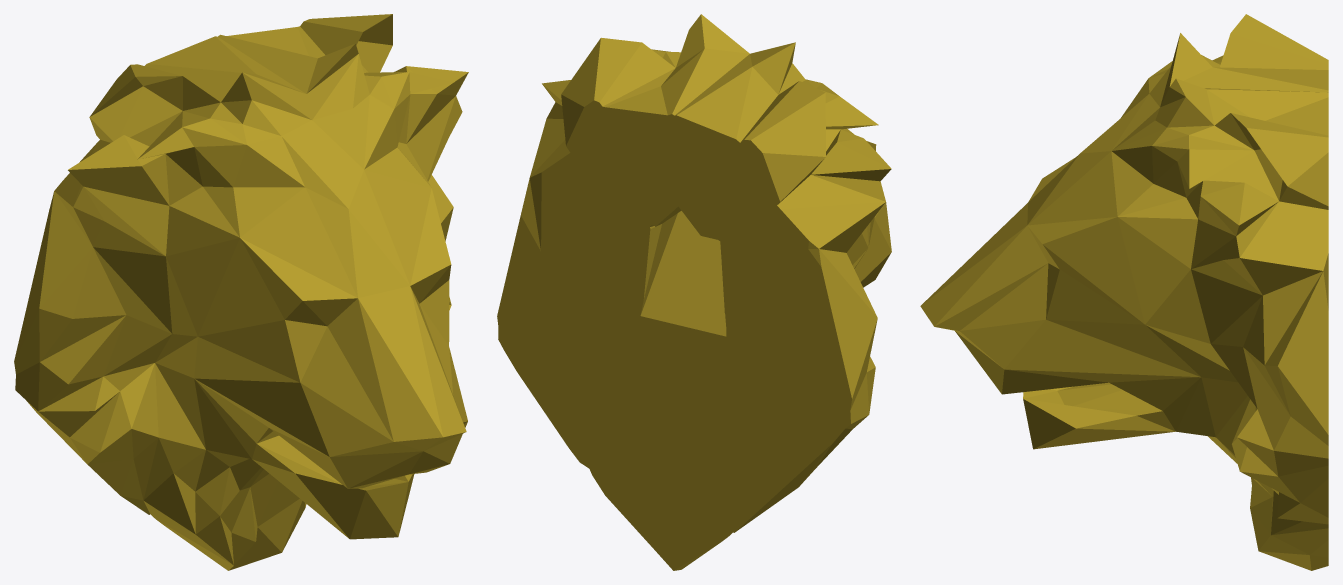
File: LEON1.glb
The picture shows the model from 3 angles, left to right: view 1: azimuth 30°, elevation 25°; view 2: azimuth 150°, elevation 25°; view 3: azimuth 270°, elevation 25°; orthographic projection. The views are drawn at different scales.
Parts seen in each view (by area): view 1: lion; view 2: lion; view 3: lion.
Boxes of the visible parts, x1,y1,x2,y2 form: lion: [14, 14, 468, 570]; lion: [497, 14, 891, 570]; lion: [920, 14, 1328, 570].
Size of the model in its own units: 80.76 by 106 by 76.22.
